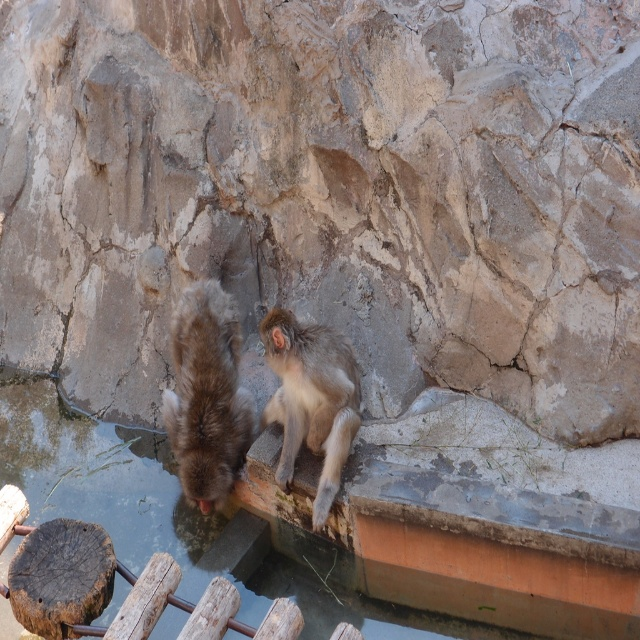Monkey: (155, 278, 268, 521), (261, 307, 361, 532)
